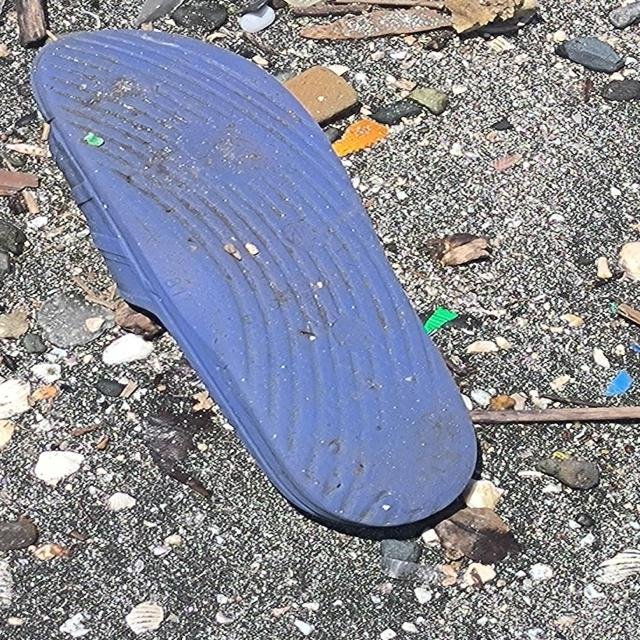rubber_waste: (26, 26, 485, 532)
